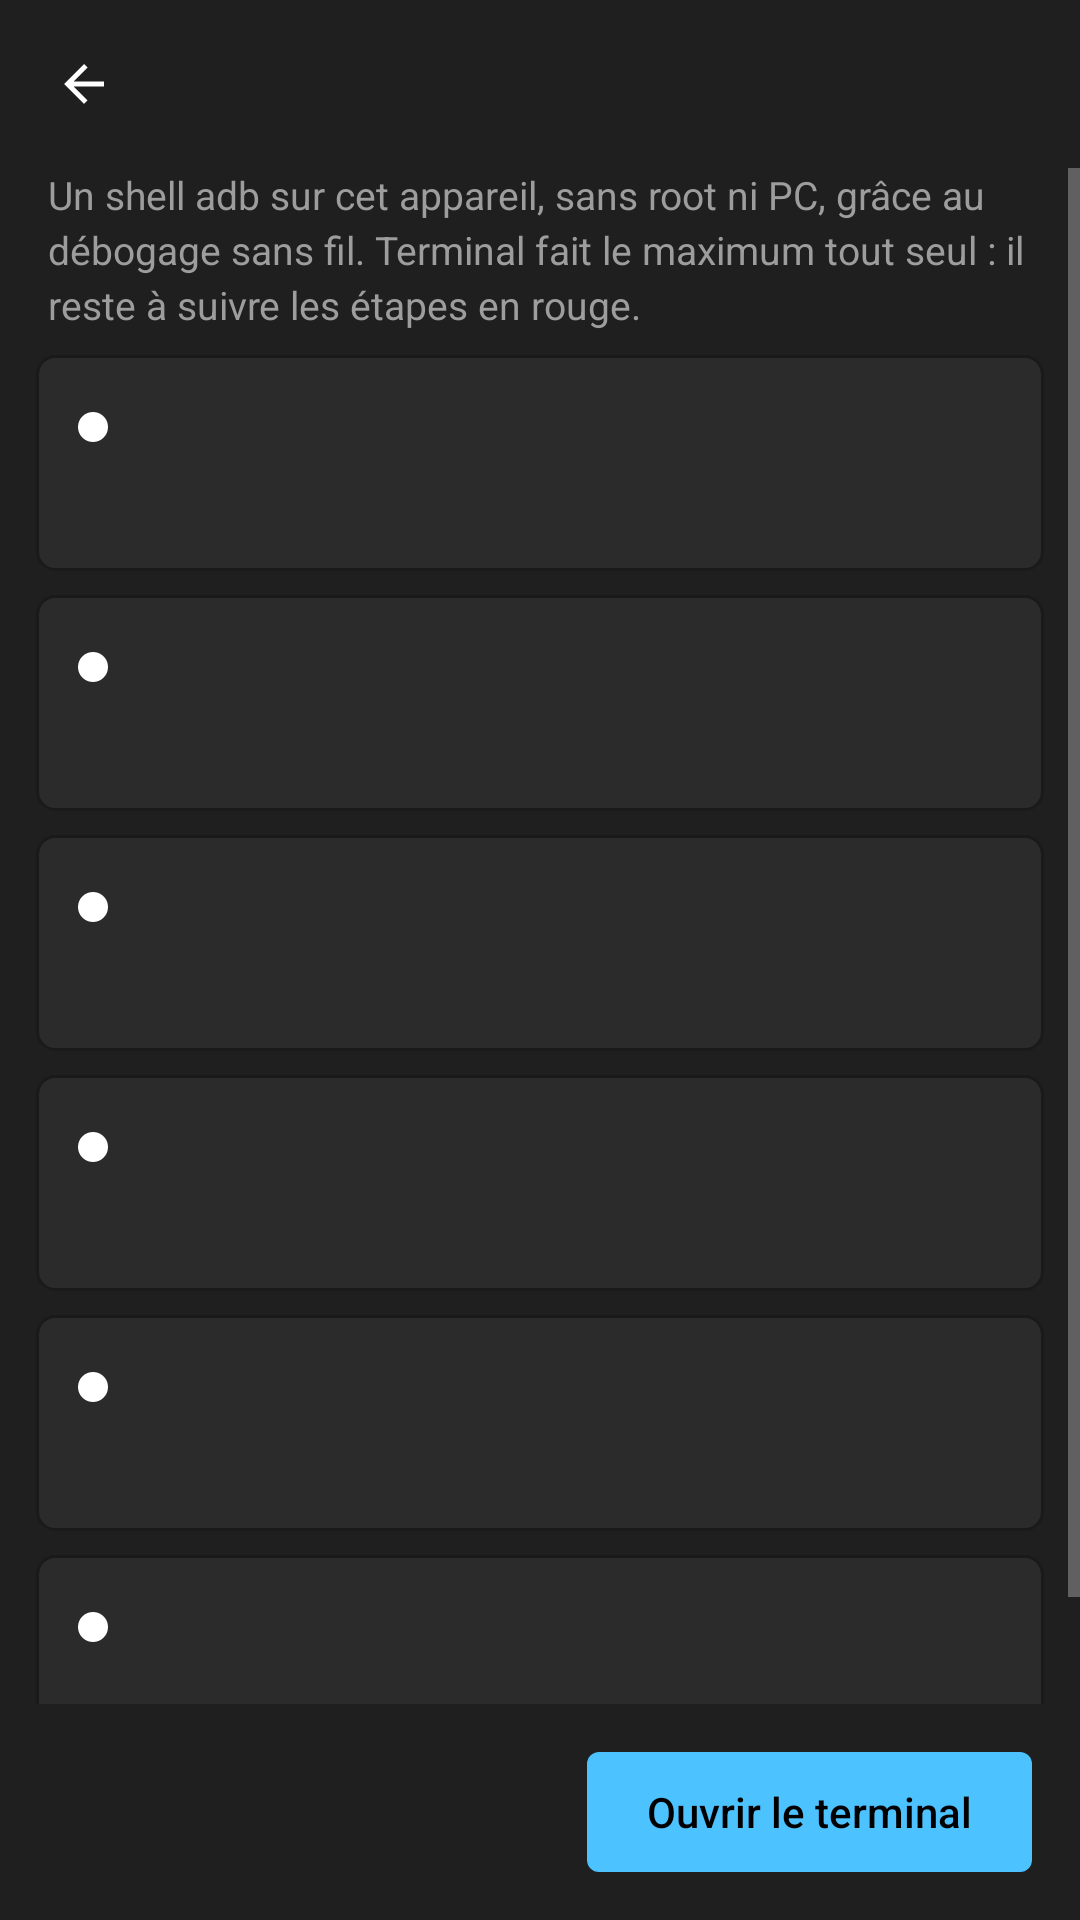

Screen size 1080x1920. Icon name, then its box in pixels as (x1, y1, x2, y2):
dot: (78, 412, 108, 442), (78, 652, 108, 682), (78, 892, 108, 922), (78, 1132, 108, 1162), (78, 1372, 108, 1402), (78, 1612, 108, 1642)
Retour: (64, 64, 104, 104)
